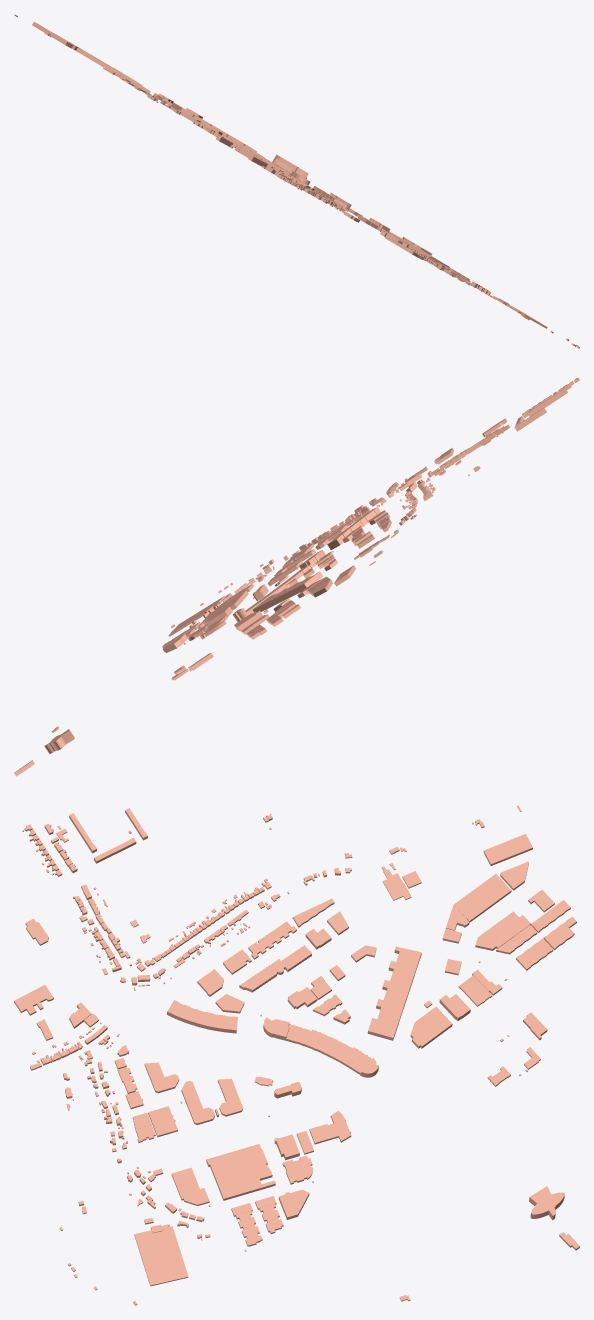
3 renders of one model, top to bottom at view 1: azimuth 30°, elevation 25°; view 2: azimuth 150°, elevation 25°; view 3: azimuth 270°, elevation 25°, orthographic. The views are drawn at different scales.
Size of the model in its own units: 998 by 755 by 1221.
